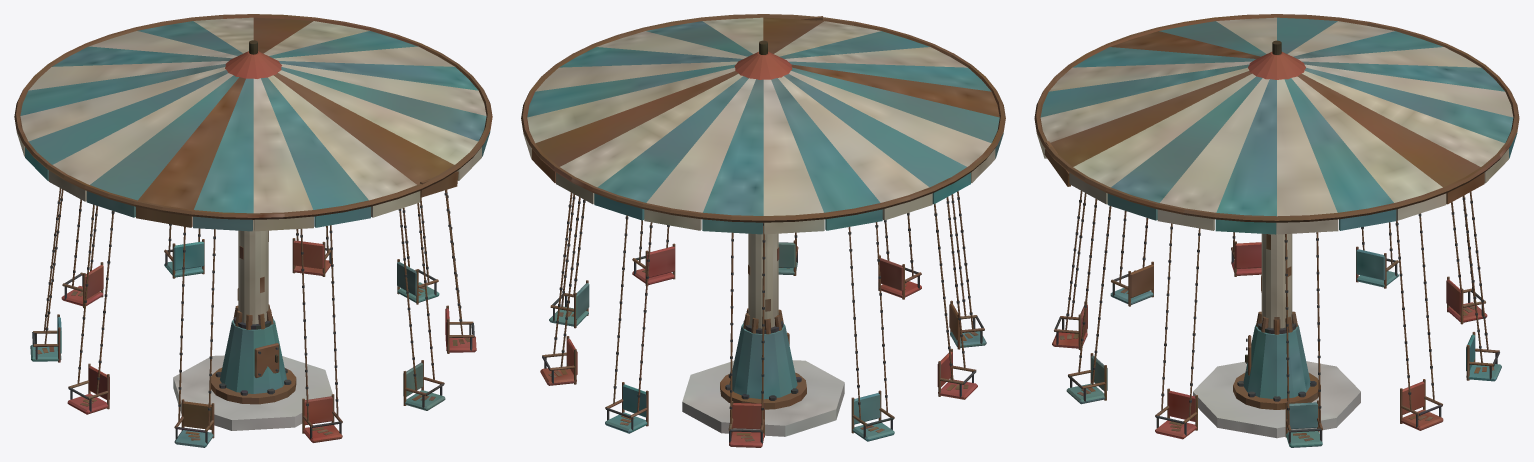
The model's file is CE06_chair_swing_ride.glb.
3 renders of one model, left to right at view 1: azimuth 30°, elevation 25°; view 2: azimuth 150°, elevation 25°; view 3: azimuth 270°, elevation 25°, orthographic.
Visible parts, largest first — view 1: Octagonal concrete footing; view 2: Octagonal concrete footing; view 3: Octagonal concrete footing.
Boxes of the visible parts, x1,y1,x2,y2 form: Octagonal concrete footing: [14, 14, 492, 447]; Octagonal concrete footing: [521, 14, 1005, 447]; Octagonal concrete footing: [1034, 14, 1519, 447].
Size of the model in its own units: 10 by 8.19 by 10.
7 materials, 7 textured.
